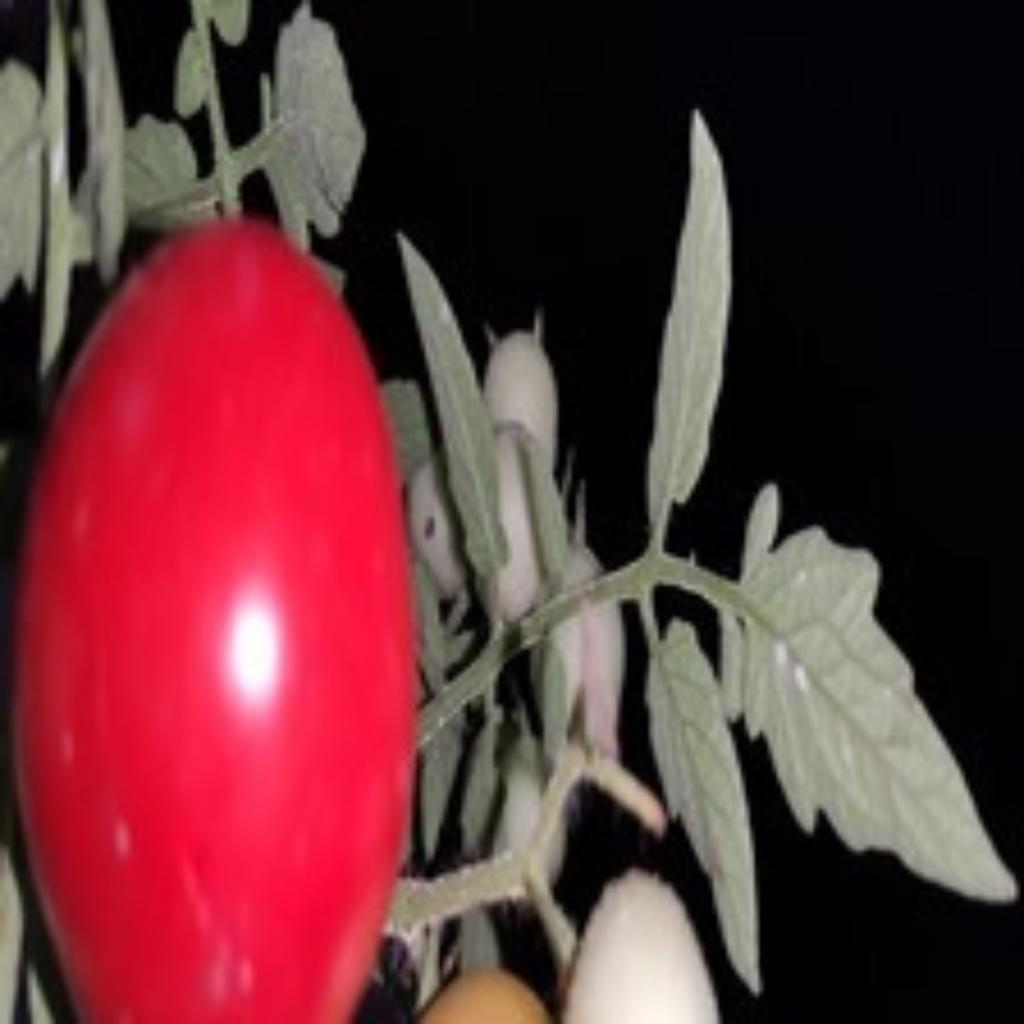tomato: (20, 222, 410, 1024)
